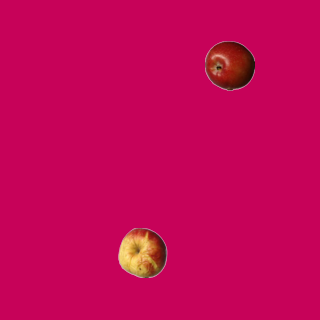Apple Braeburn: (204, 40, 254, 90)
Apple Red Yellow 1: (117, 227, 167, 277)
